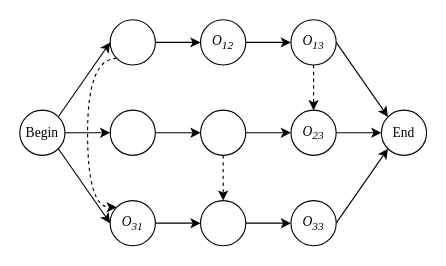
The diagram is 446 pixels wide and 266 high, and some of its shapes have lost their labels. Each missing label, with the centre of its shape:
O 11: point (132, 42)
O 21: point (132, 132)
O 22: point (222, 132)
O 32: point (222, 222)
